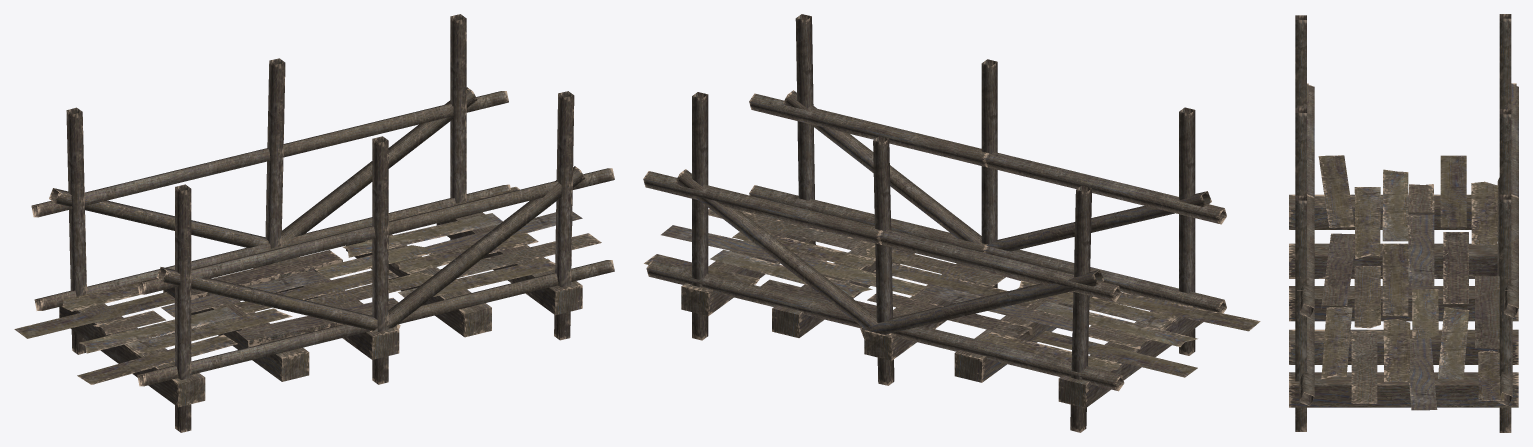
Rendered from Scaffolding_StandaloneShort.fbx.
The picture shows the model from 3 angles, left to right: view 1: azimuth 30°, elevation 25°; view 2: azimuth 150°, elevation 25°; view 3: azimuth 270°, elevation 25°; orthographic projection. The views are drawn at different scales.
Visible parts, largest first — view 1: CDTMesh_Scaffolding_StandaloneShort_LOD; view 2: CDTMesh_Scaffolding_StandaloneShort_LOD; view 3: CDTMesh_Scaffolding_StandaloneShort_LOD.
Boxes of the visible parts, x1,y1,x2,y2 form: CDTMesh_Scaffolding_StandaloneShort_LOD: (14, 14, 614, 432); CDTMesh_Scaffolding_StandaloneShort_LOD: (643, 14, 1260, 432); CDTMesh_Scaffolding_StandaloneShort_LOD: (1289, 14, 1518, 432).
Size of what is drawn, in the model's own units: 10.86 by 4.64 by 4.14.
